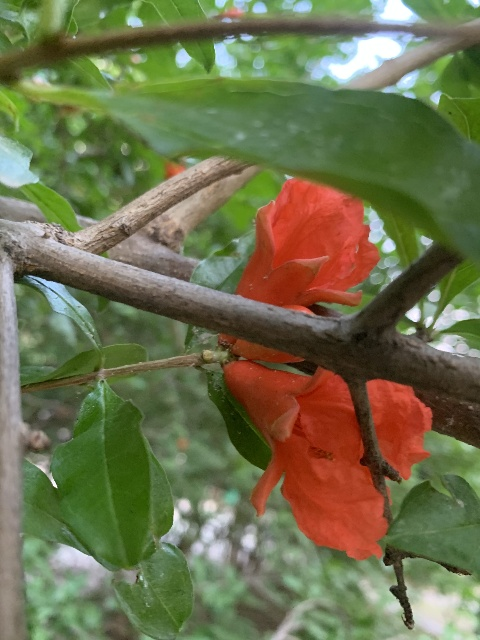bud: (231, 305, 315, 363)
flower: (222, 359, 433, 560), (221, 176, 380, 353)
